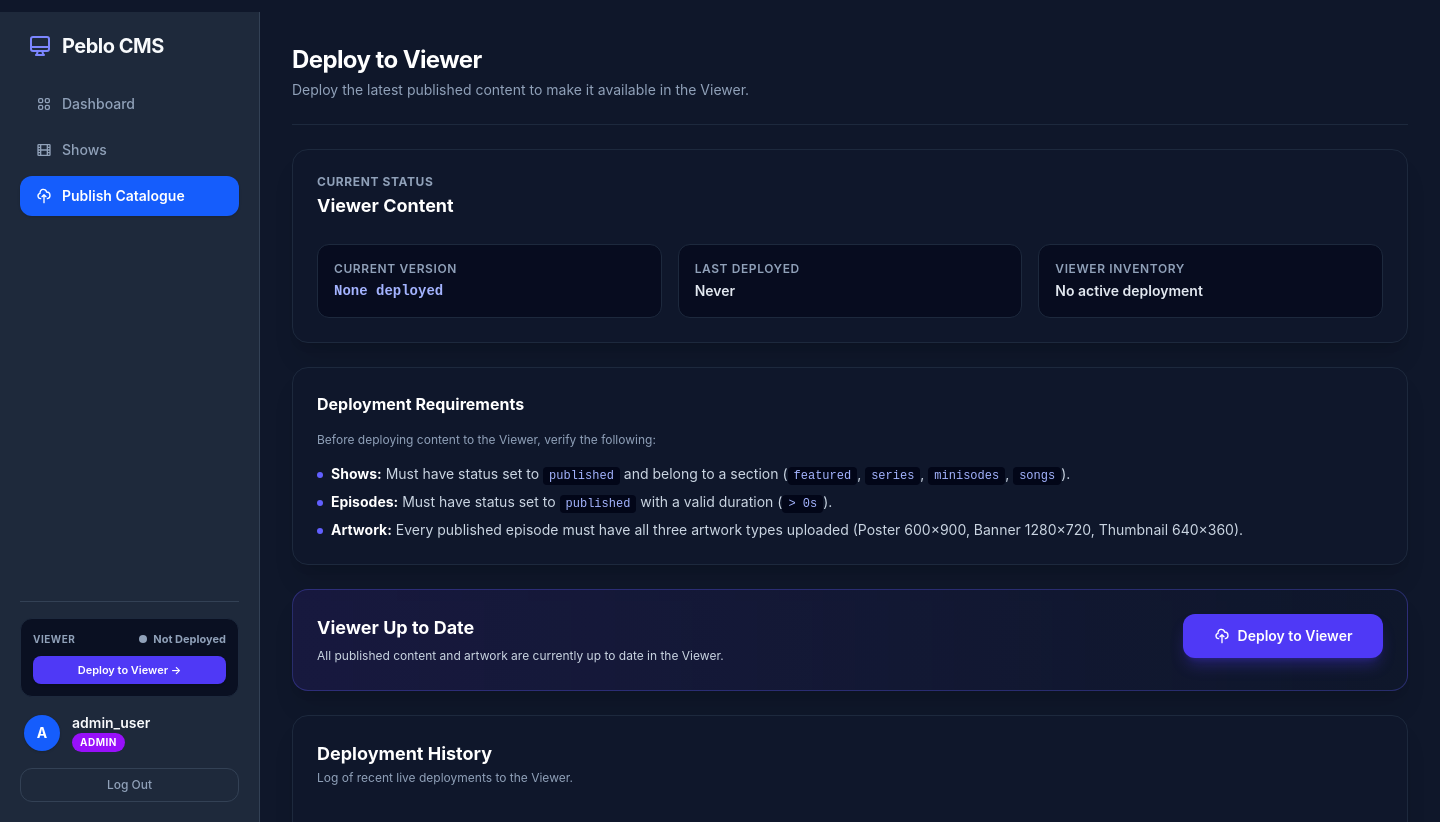
Test: CMS Catalogue Publishing › handles successful catalogue publishing and updates history & metrics
Click the button with test id "publish-catalog-btn" at (1283, 636), box [1183, 614, 1383, 658]
(page scrolled)
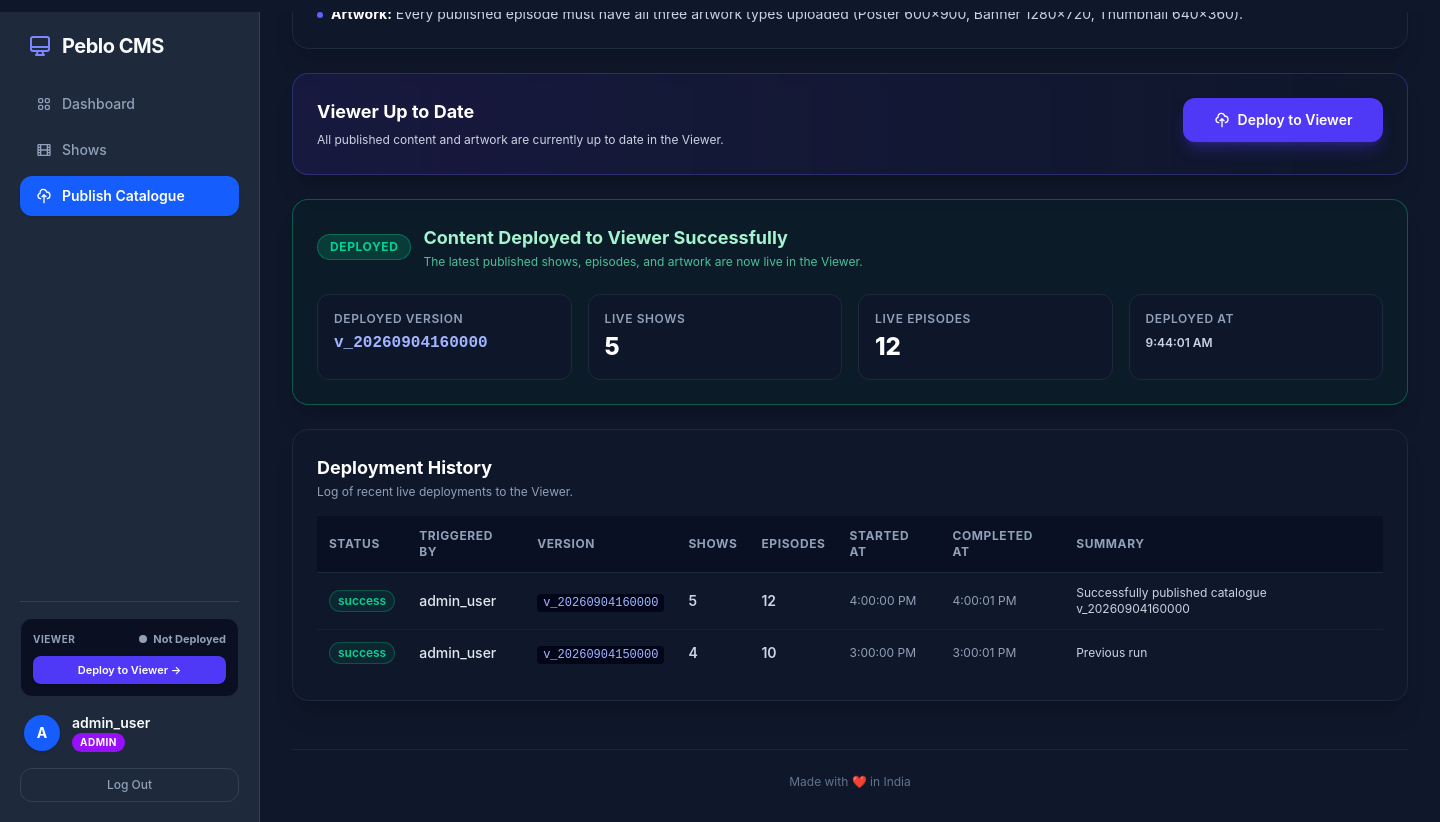
Now the element with test id "publish-success-card" is shown, box [292, 198, 1408, 404]
Now the text with test id "success-catalogue-version" reads "v_20260904160000", box [334, 334, 488, 352]
Now the text with test id "success-shows-count" reads "5", box [604, 332, 620, 360]
